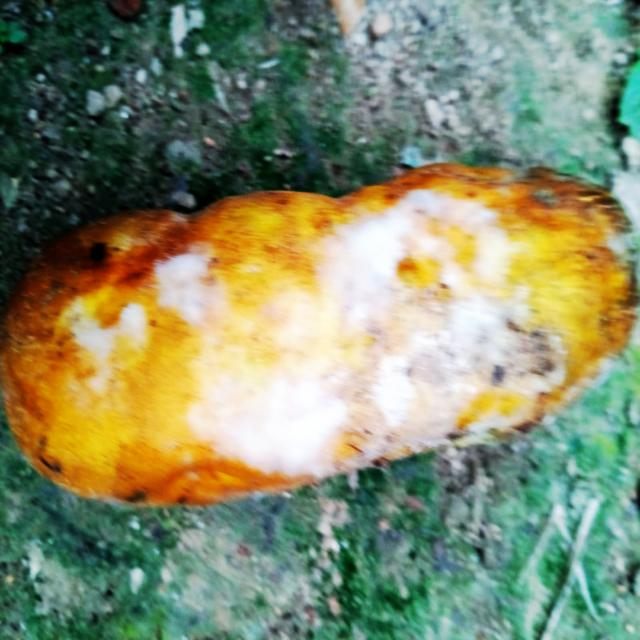Pythium-Fruit-Rot: (77, 183, 585, 479)
